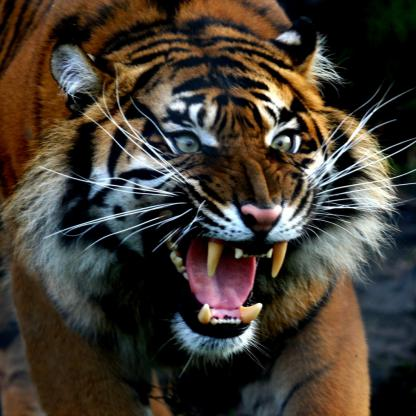tiger: (38, 28, 404, 371)
